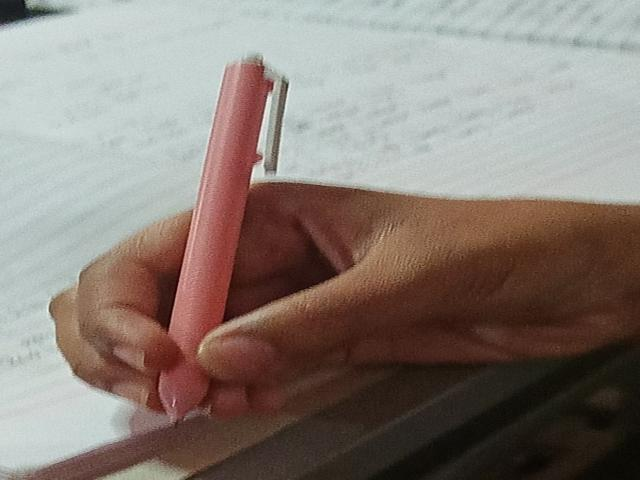PEN: (141, 42, 308, 453)
